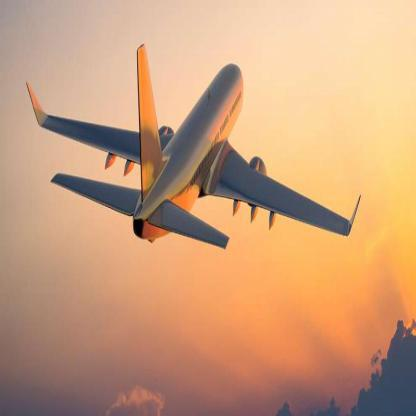CIV_Plane: (17, 35, 363, 289)
